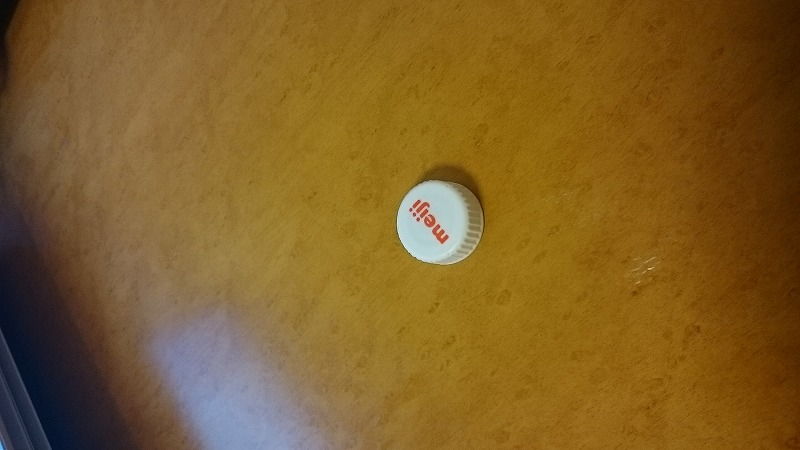B: (391, 171, 490, 270)
